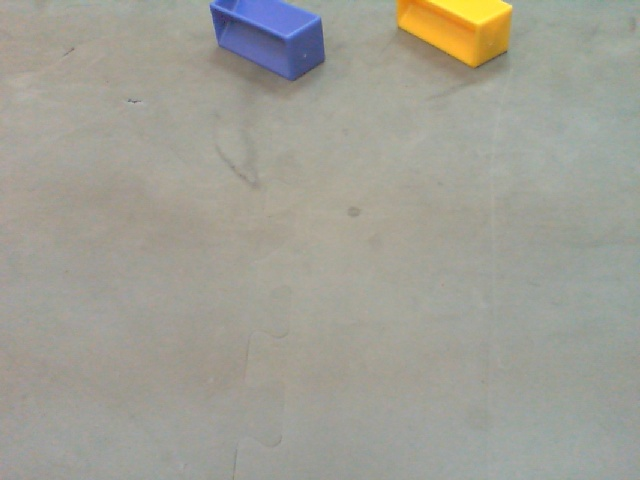BlueSample: (207, 1, 330, 81)
YellowSample: (396, 1, 513, 67)
